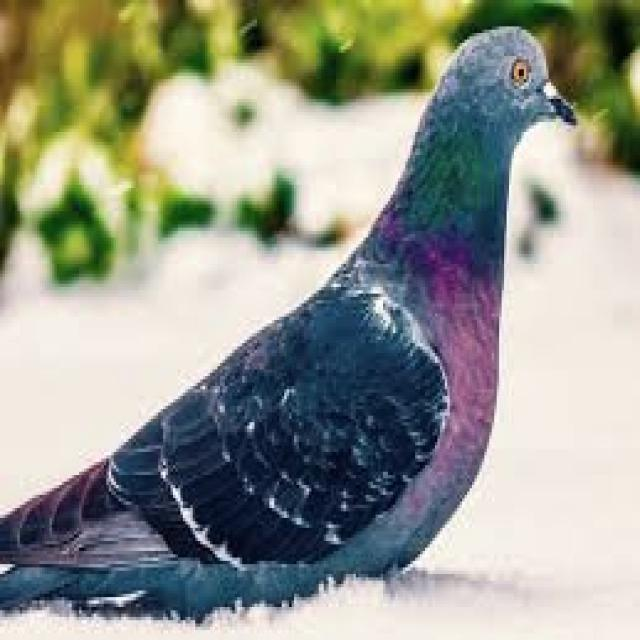pigeon: (0, 26, 573, 617)
